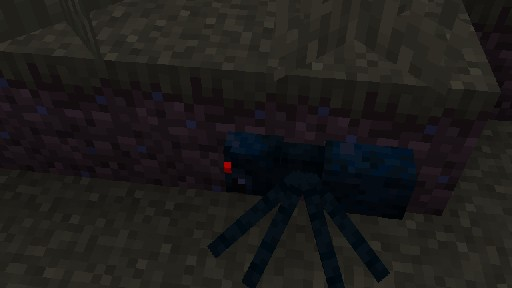cave_spider: (206, 109, 417, 288)
